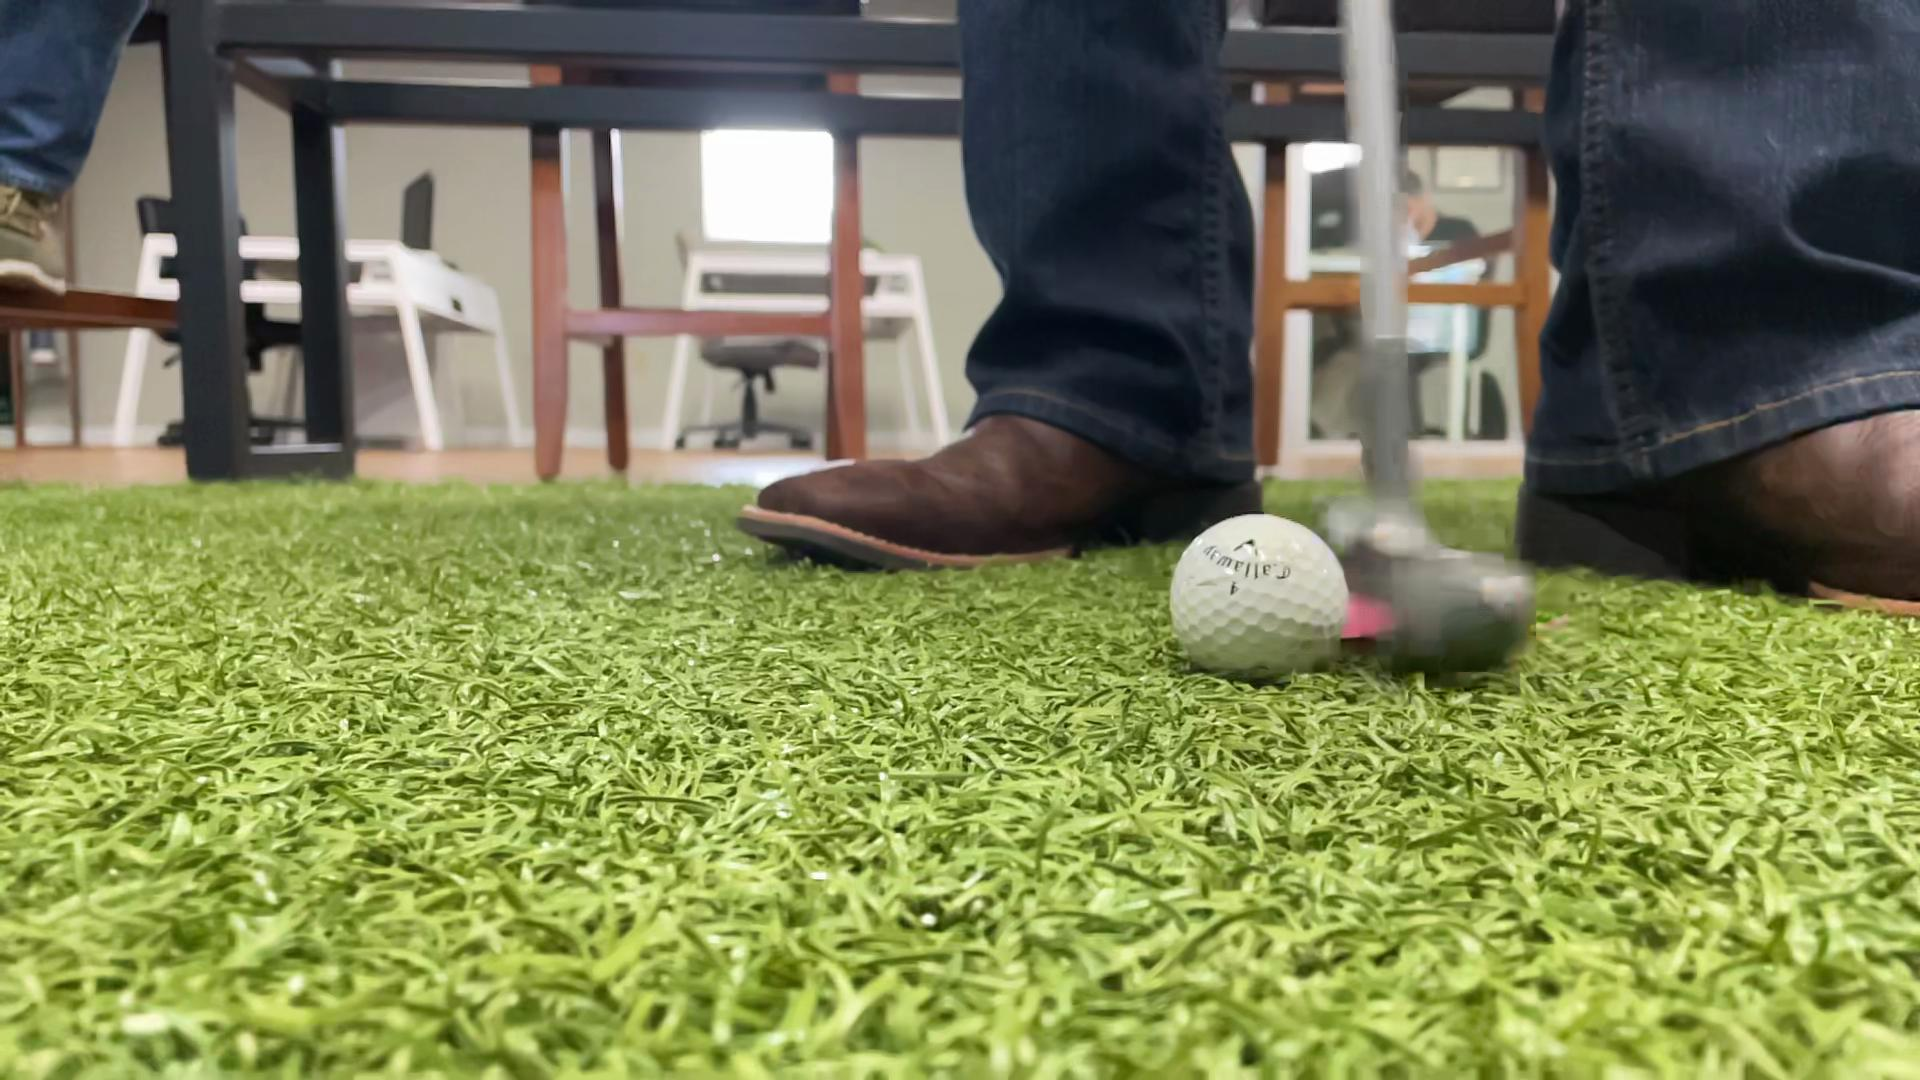golfball: (1170, 514, 1351, 683)
